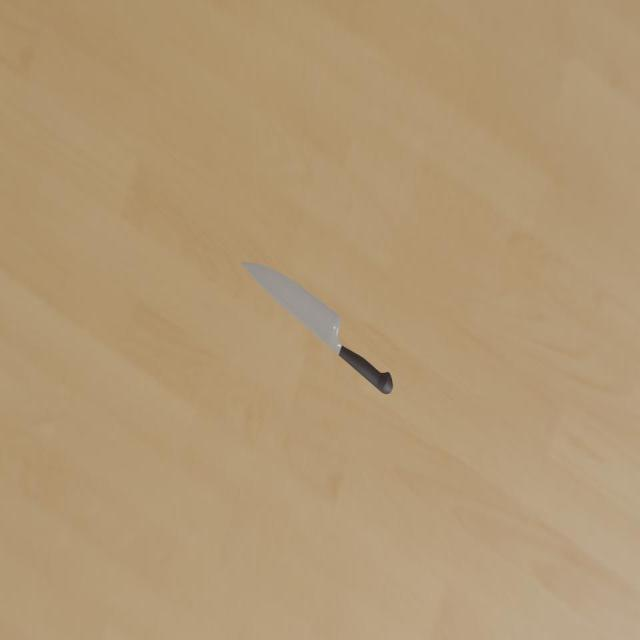knife: (338, 344, 393, 394)
